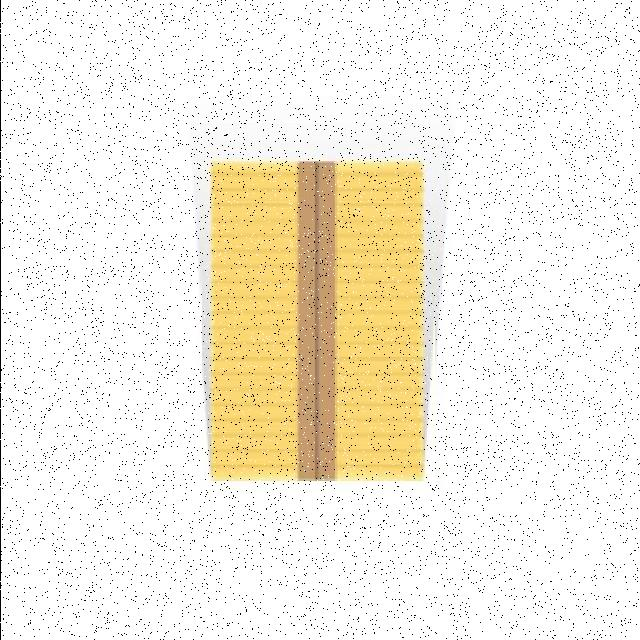normal: (201, 152, 434, 496)
